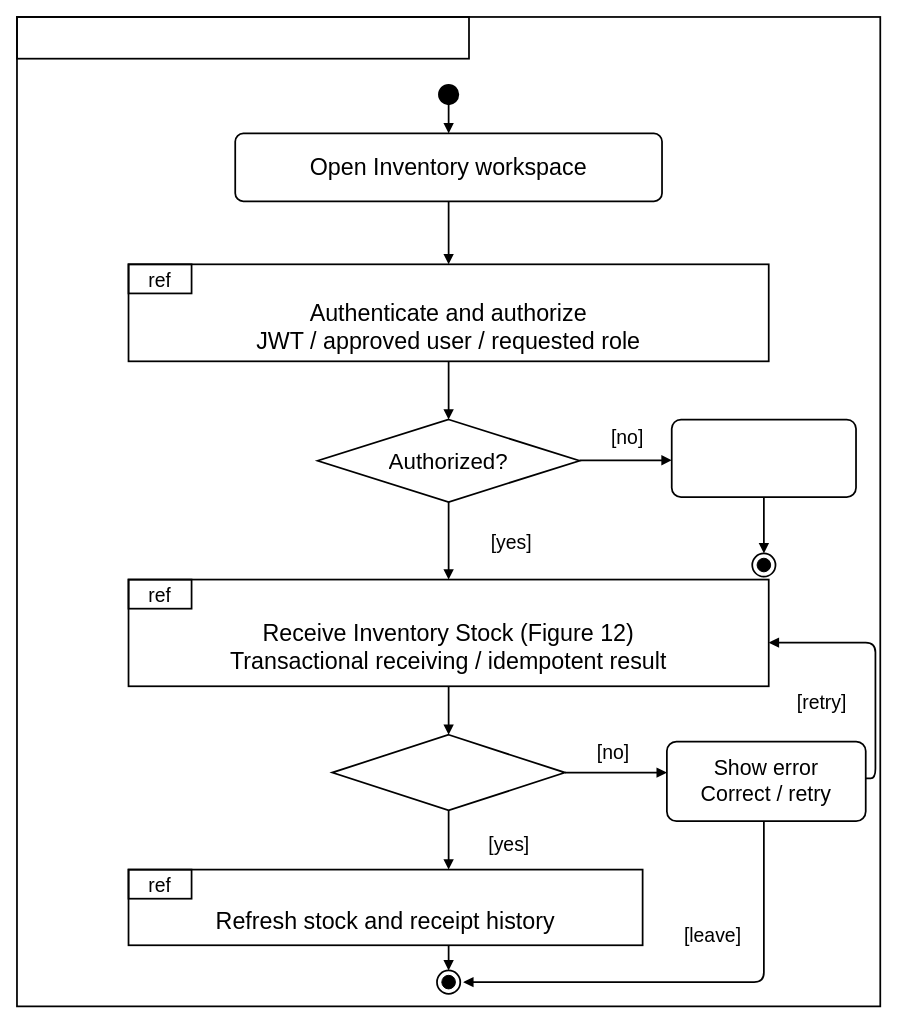
Some shapes in this 901 by 1024 pixel diagram are drawn without their labels. Here are the shapes that lost their labels. From the top down, the centre of each, then its label:
At point 242,37: "Inventory Receiving Interactions".
At point 763,458: "Show denied access".
At point 448,772: "Saved result?".
